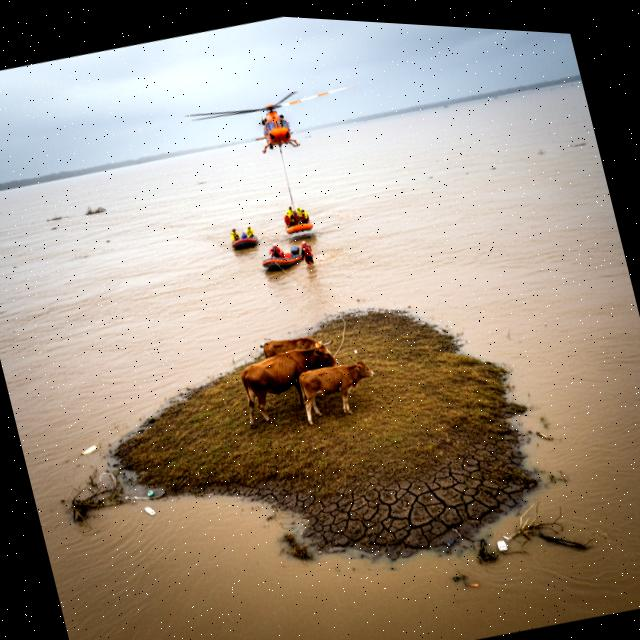cow: (234, 333, 354, 433), (282, 345, 388, 432), (257, 322, 338, 383)
rescuer: (296, 238, 318, 269), (268, 240, 286, 261), (284, 204, 298, 227), (282, 207, 296, 229), (228, 224, 243, 241), (297, 206, 310, 225), (245, 221, 258, 240), (292, 205, 304, 218)
